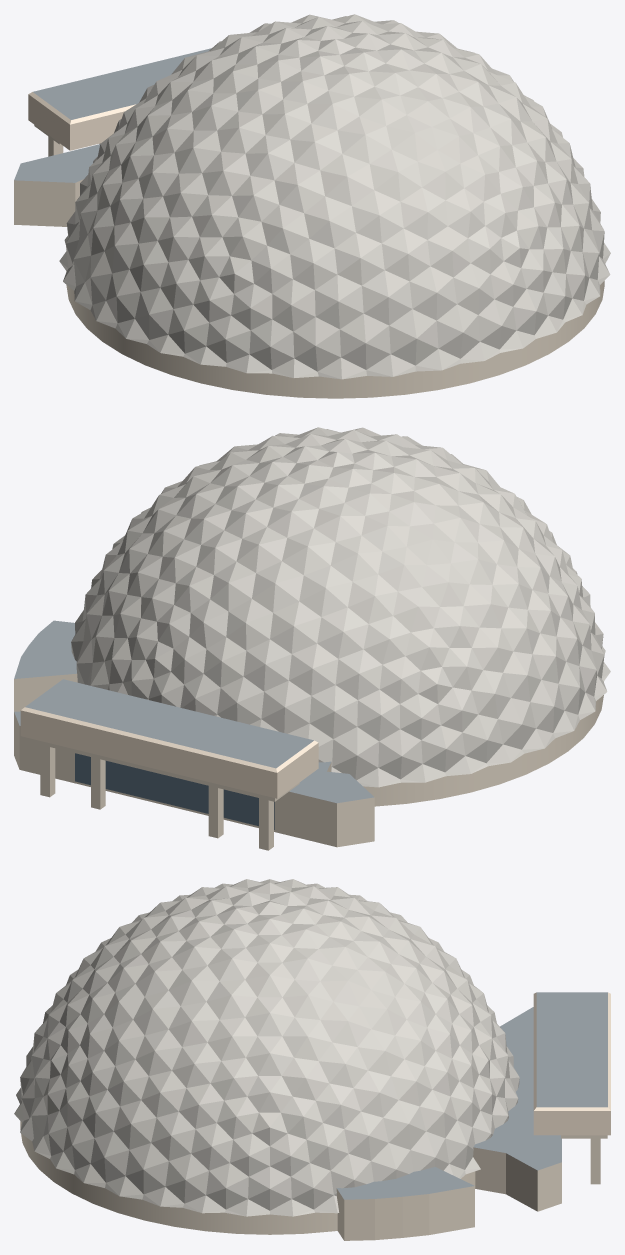
Rendered from la-cinerama-dome.glb.
The picture shows the model from 3 angles, top to bottom: view 1: azimuth 30°, elevation 25°; view 2: azimuth 150°, elevation 25°; view 3: azimuth 270°, elevation 25°; orthographic projection. The views are drawn at different scales.
Parts seen in each view (by area): view 1: Cinerama Dome; view 2: Cinerama Dome; view 3: Cinerama Dome.
Part boxes in pixels (box(x1,y1,x2,y2)): Cinerama Dome: box(14, 14, 610, 398); Cinerama Dome: box(14, 427, 610, 850); Cinerama Dome: box(14, 879, 610, 1240).
Size of the model in its own units: 45.75 by 22.1 by 52.51.
